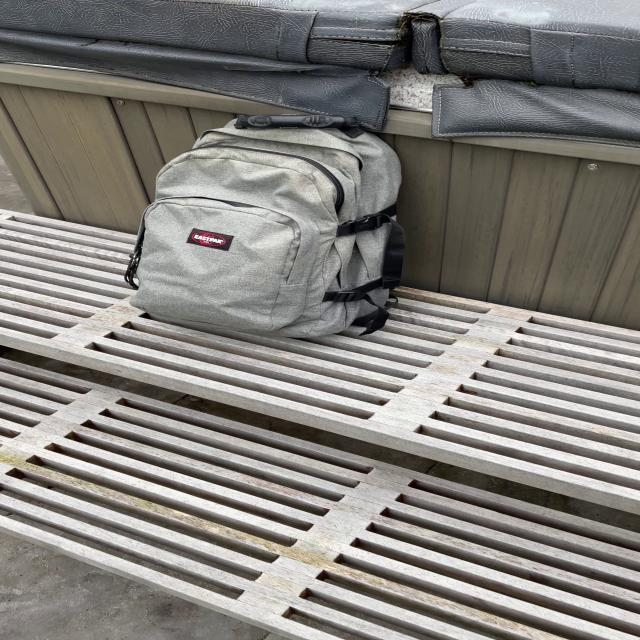backpack: (118, 107, 416, 342)
